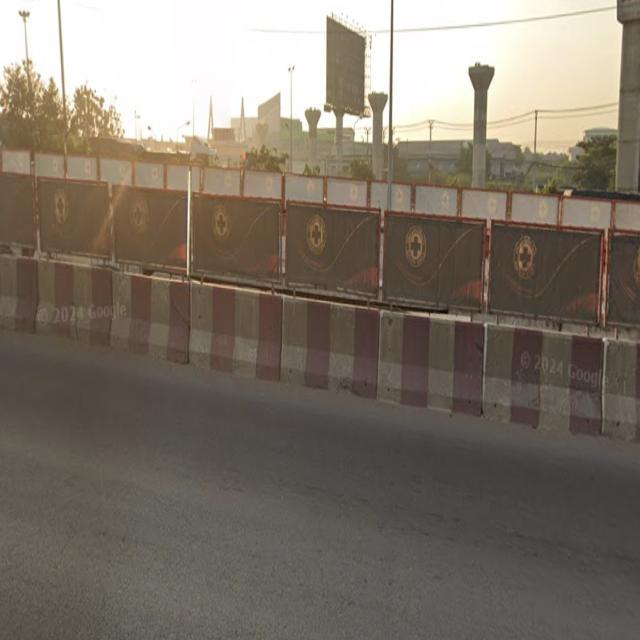fallen_object: (476, 305, 640, 488), (369, 293, 493, 448), (262, 283, 384, 410), (175, 275, 284, 391), (99, 262, 188, 376), (32, 249, 108, 359), (0, 237, 36, 359)
